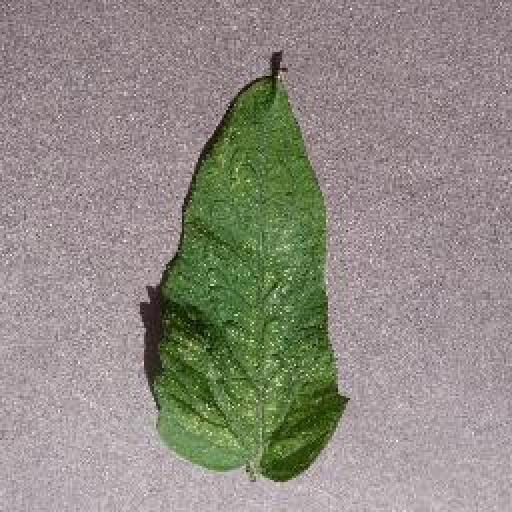Spider Mites: (148, 68, 349, 483)
